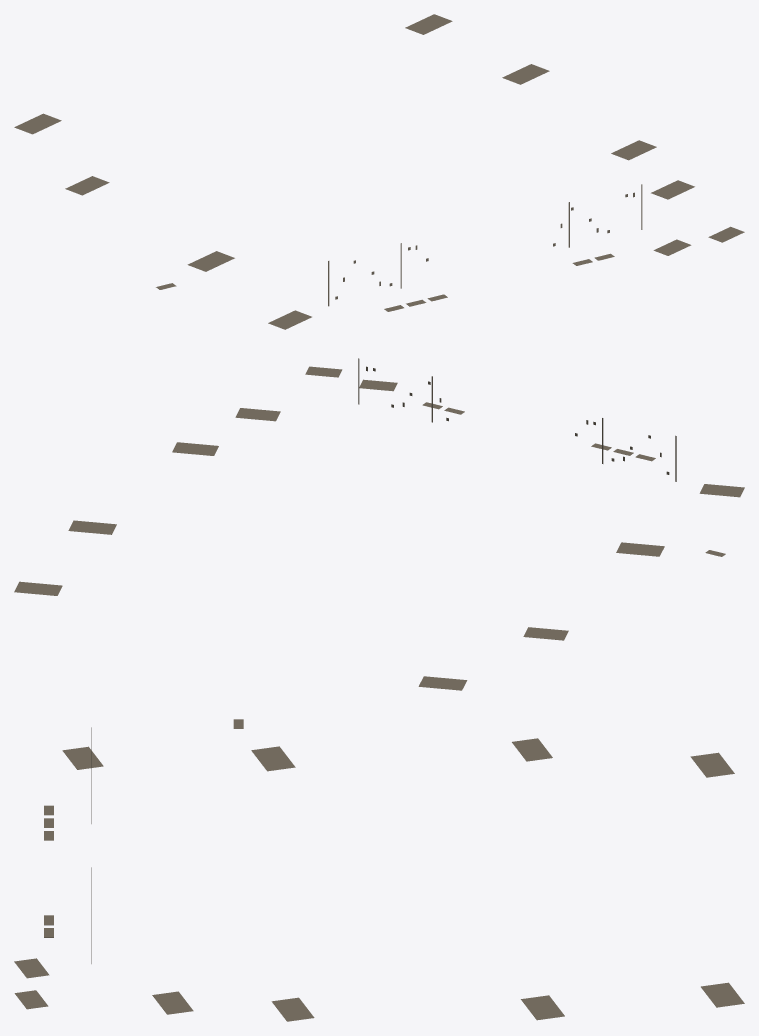
Rendered from weathering.glb.
3 views of the same model, one above another, from view 1: azimuth 30°, elevation 25°; view 2: azimuth 150°, elevation 25°; view 3: azimuth 270°, elevation 25° (orthographic). The views are drawn at different scales.
Parts seen in each view (by area): view 1: no part large enough to name; view 2: no part large enough to name; view 3: LM_TreeShadow_03, LM_TreeShadow_07, LM_TreeShadow_06, LM_TreeShadow_08, LM_TreeShadow_04, LM_TreeShadow_02, LM_TreeShadow_05, LM_TreeShadow_01.
Part boxes in pixels (x1=…): LM_TreeShadow_03: x1=251, y1=746, x2=295, y2=771; LM_TreeShadow_07: x1=690, y1=752, x2=734, y2=777; LM_TreeShadow_06: x1=521, y1=995, x2=564, y2=1020; LM_TreeShadow_08: x1=701, y1=982, x2=744, y2=1007; LM_TreeShadow_04: x1=271, y1=997, x2=314, y2=1021; LM_TreeShadow_02: x1=152, y1=991, x2=193, y2=1014; LM_TreeShadow_05: x1=512, y1=738, x2=552, y2=761; LM_TreeShadow_01: x1=62, y1=746, x2=103, y2=769.
Size of the model in its own units: 143 by 12.25 by 146.
